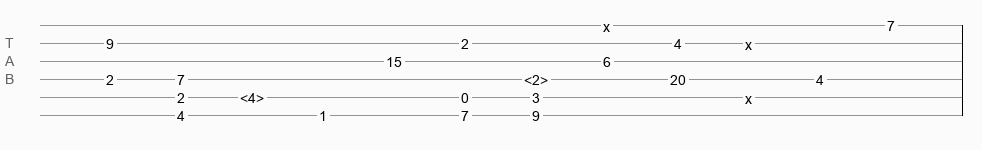0: (461, 90, 469, 100)
1: (319, 108, 327, 118)
15: (386, 54, 402, 64)
2: (106, 72, 114, 82), (177, 90, 185, 100), (461, 36, 469, 46)
20: (670, 72, 686, 82)
3: (532, 90, 540, 100)
4: (177, 108, 185, 118), (674, 36, 682, 46), (816, 72, 824, 82)
6: (603, 54, 611, 64)
7: (177, 72, 185, 82), (461, 108, 469, 118), (887, 18, 895, 28)
9: (106, 36, 114, 46), (532, 108, 540, 118)
harmonic: (240, 90, 264, 100), (524, 72, 548, 82)
x: (603, 19, 610, 27), (745, 91, 752, 99), (745, 37, 752, 45)
